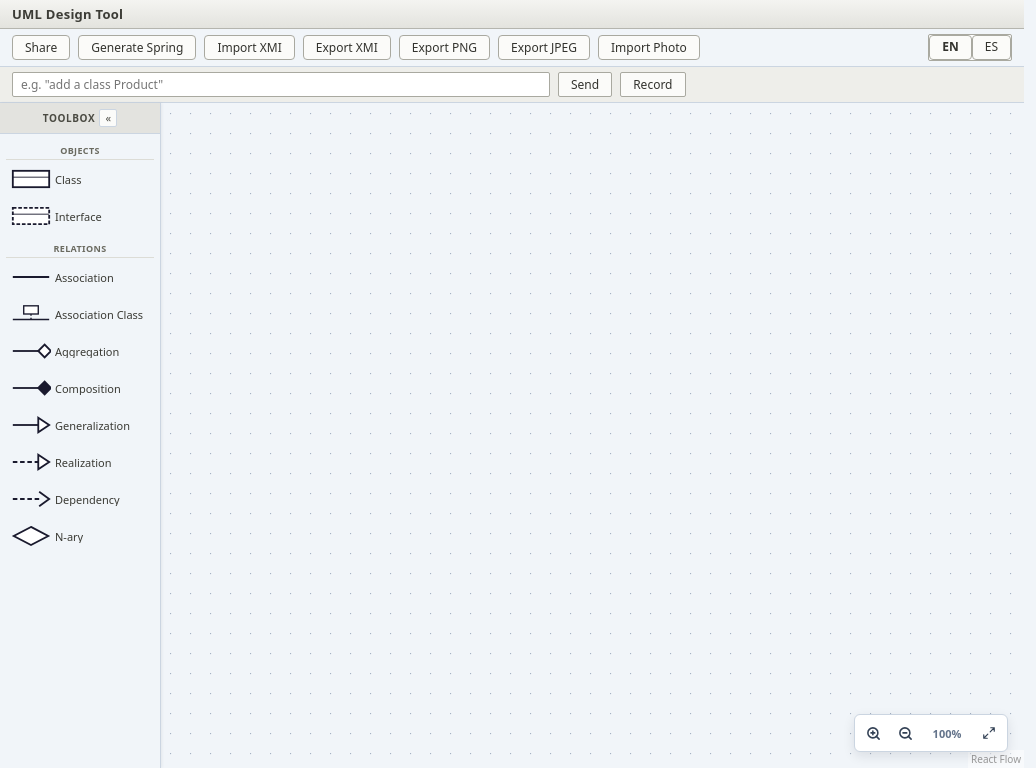
Test: Voice input (voice:R1/R2/R3) › 8.3 STT outage shows an explicit message directing to the text input fallback
Click the button "Record": (653, 84) [620,72,686,97]
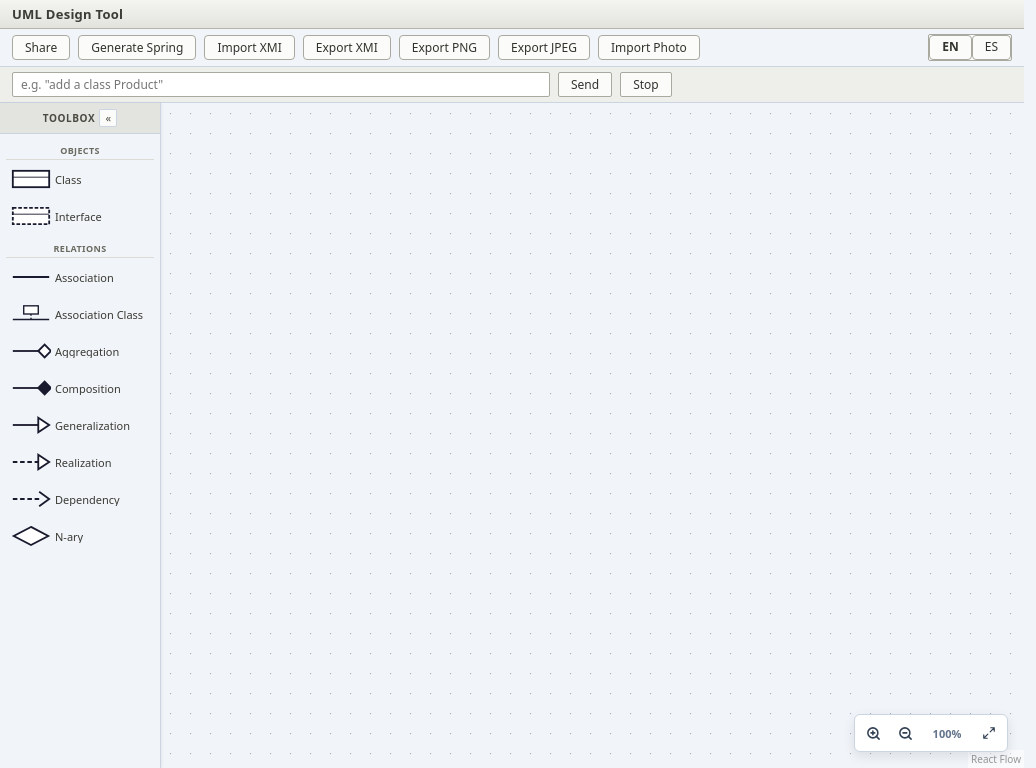
Now the button "Stop" is shown
Click the button "Stop": (646, 84) [620,72,672,97]
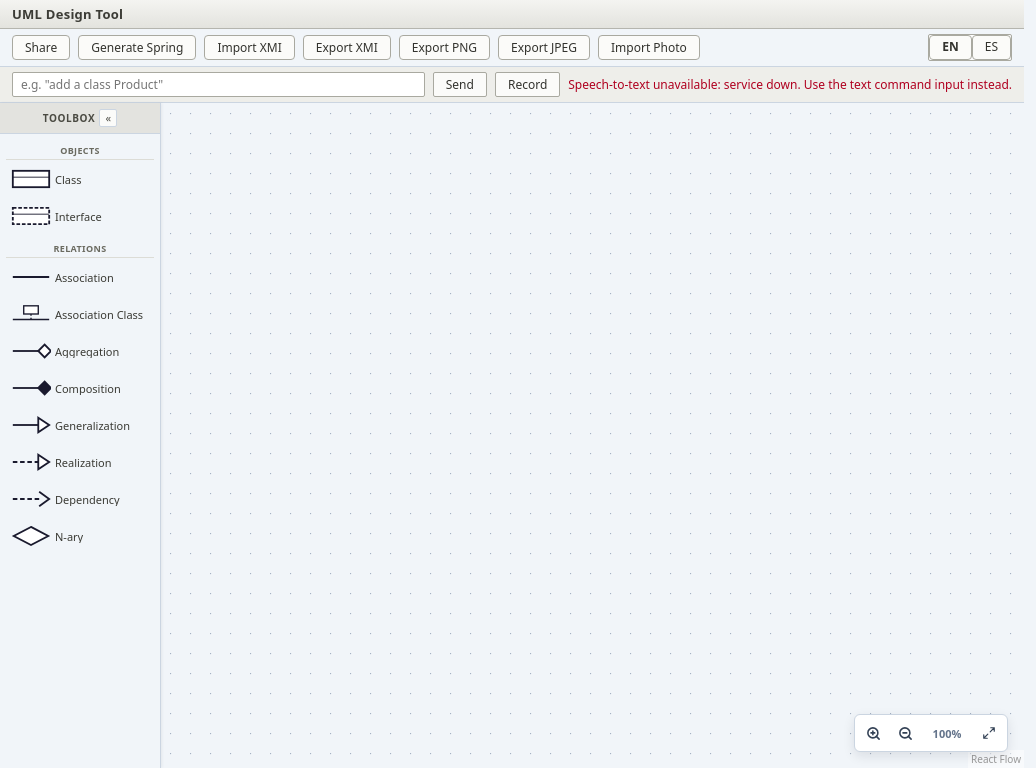
Expected: the field named "Natural language command" is shown, [12,72,425,97]
Now the text "Speech-to-text unavailable: service down. Use the text command input instead." is shown, box [568,76,1012,93]
